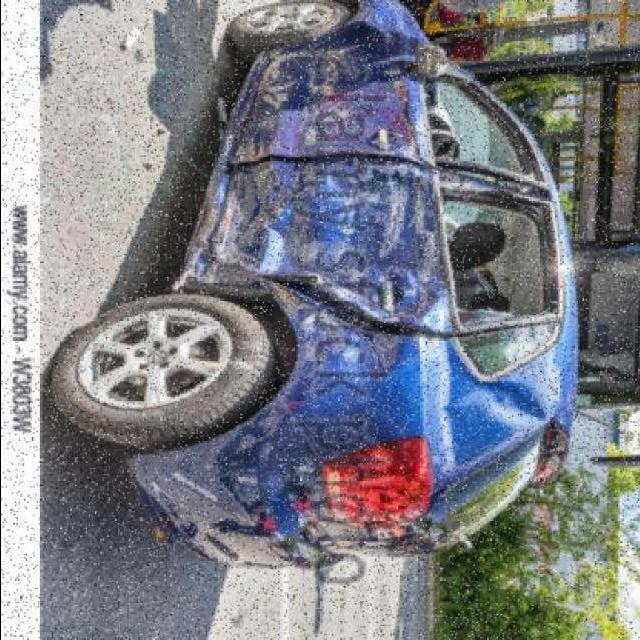doorouter-dent: (236, 165, 440, 296), (250, 48, 426, 159)
quaterpanel-dent: (222, 306, 440, 462)
